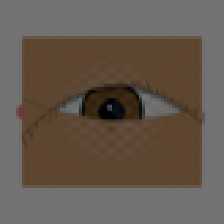pinguecula_lesion: (34, 101, 79, 137)
